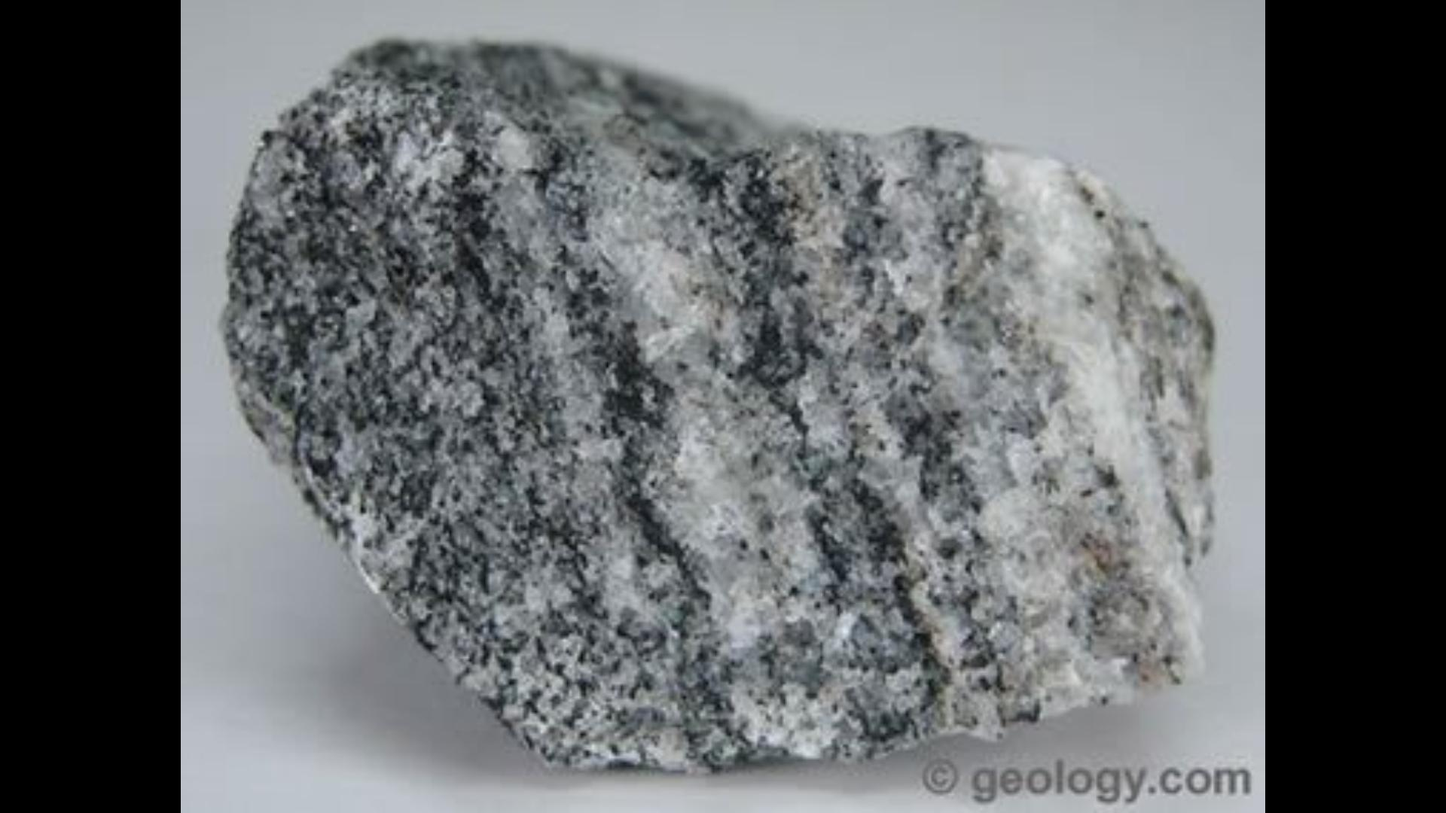rock: (224, 40, 1211, 767)
